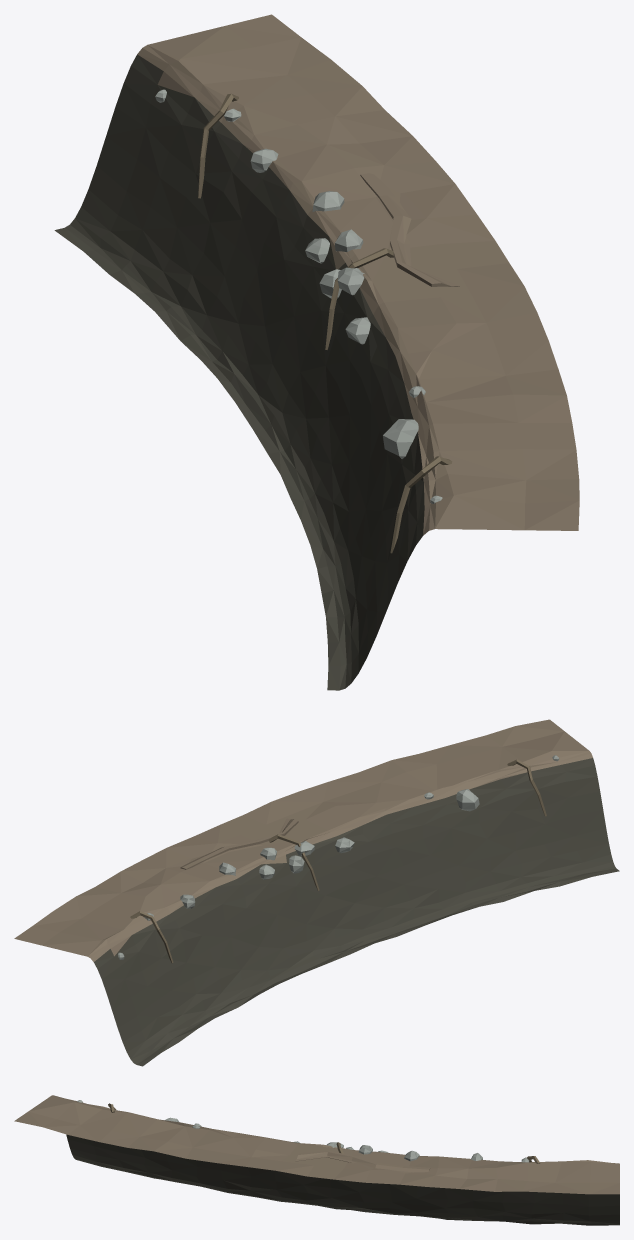
File: river-bed-curve.fbx
3 views of the same model, one above another, from view 1: azimuth 30°, elevation 25°; view 2: azimuth 150°, elevation 25°; view 3: azimuth 270°, elevation 25° (orthographic). The views are drawn at different scales.
Parts seen in each view (by area): view 1: BankProfile, BankStones, BankRoots, BankErosion; view 2: BankProfile, BankStones, BankRoots, BankErosion; view 3: BankProfile, BankErosion, BankStones.
Boxes of the visible parts, x1,y1,x2,y2 form: BankProfile: [54, 14, 579, 690]; BankStones: [155, 89, 442, 503]; BankRoots: [198, 93, 452, 553]; BankErosion: [360, 173, 459, 286]; BankProfile: [14, 719, 619, 1066]; BankStones: [118, 755, 559, 959]; BankRoots: [130, 759, 546, 963]; BankErosion: [180, 818, 298, 869]; BankProfile: [14, 1095, 619, 1225]; BankErosion: [295, 1151, 430, 1173]; BankStones: [77, 1100, 529, 1162].
Size of the model in its own units: 4.67 by 1.65 by 10.13.
